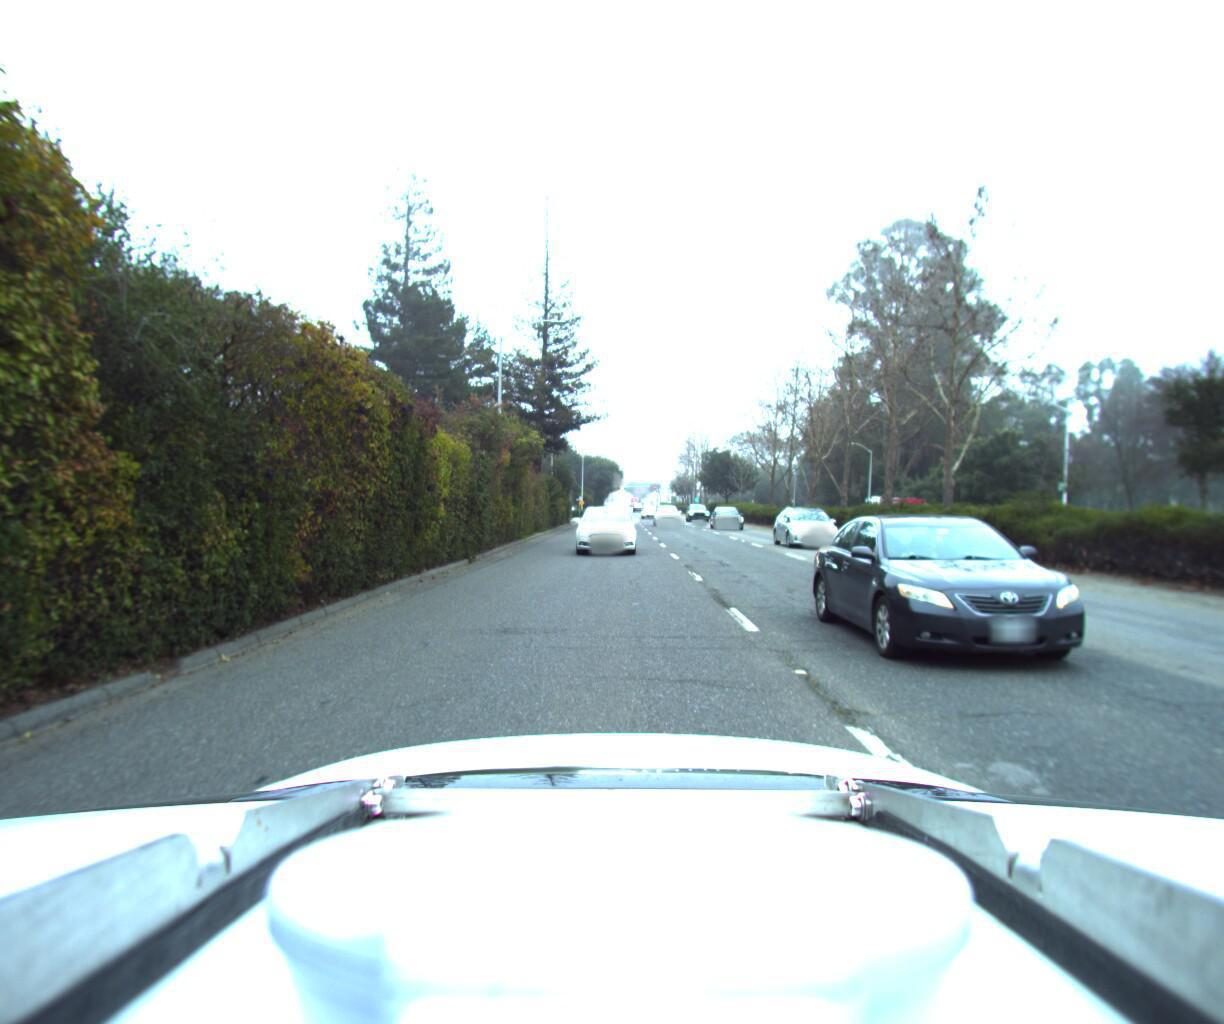car: (830, 491, 1224, 713), (569, 496, 640, 550), (777, 495, 857, 541), (710, 496, 749, 523), (652, 496, 686, 518), (685, 492, 712, 514), (640, 497, 659, 513)
emergency_vehicle: (859, 482, 927, 516)
